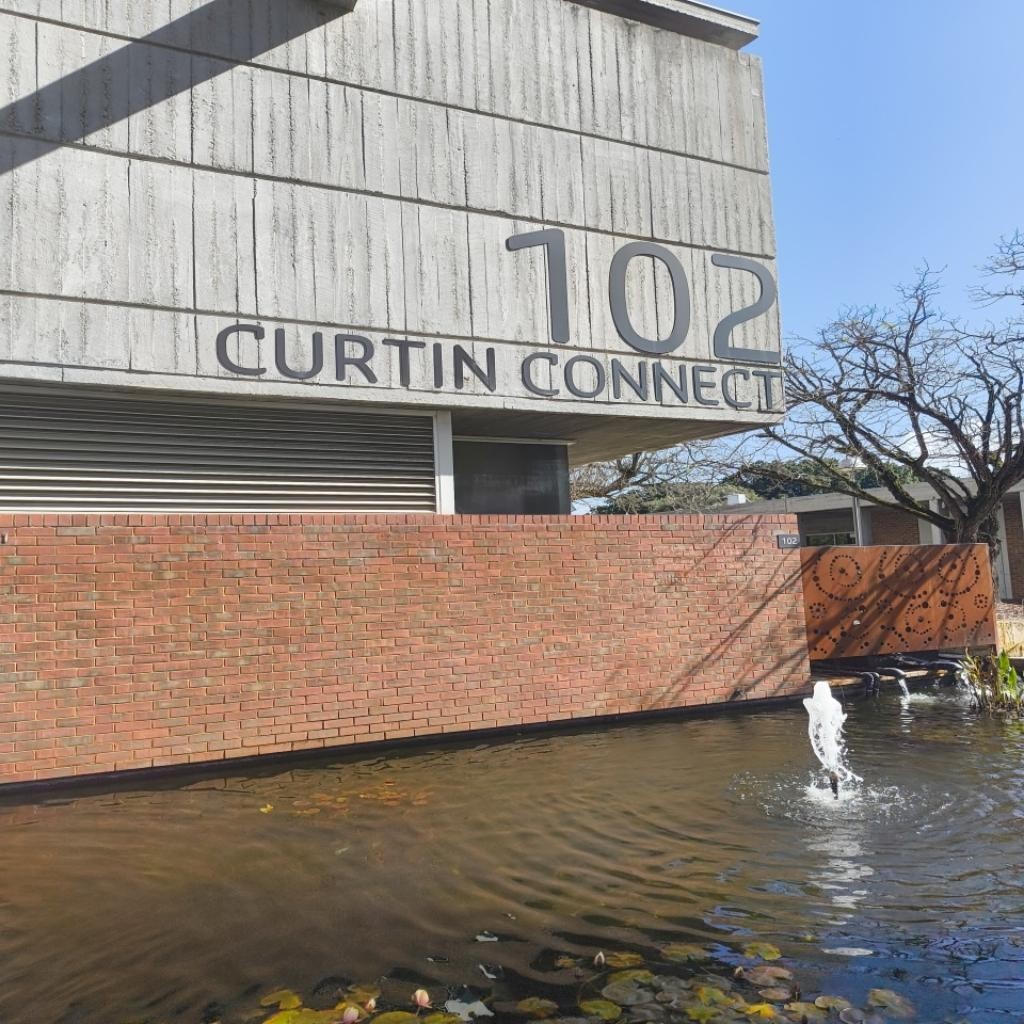BuildingCodes: (498, 224, 786, 368)
